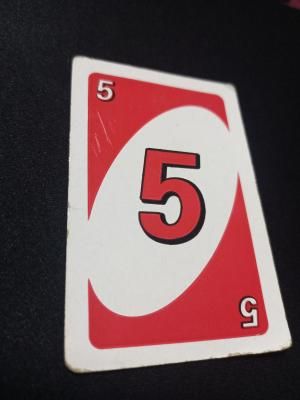num_5: (130, 140, 211, 252), (234, 288, 264, 333), (90, 67, 121, 109)
